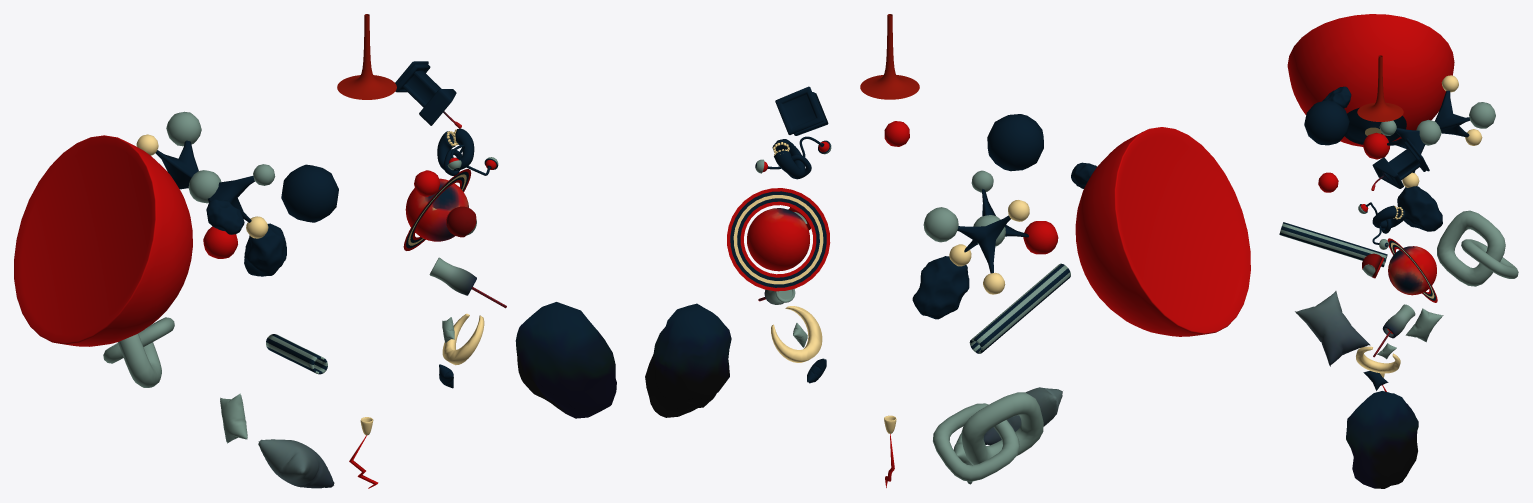
File: 03_Future.glb
The picture shows the model from 3 angles, left to right: view 1: azimuth 30°, elevation 25°; view 2: azimuth 150°, elevation 25°; view 3: azimuth 270°, elevation 25°; orthographic projection. The views are drawn at different scales.
Parts seen in each view (by area): view 1: 03_Big_eye, 03_Big_asteroid.001, 03_Big_formula, 03_Big_balls, 03_Big_pillows_001, 03_Big_ringschain, 03_Planet, 03_Tribune, 03_Big_asteroid, 03_Quill, 03_Alien, 03_Big_tube (+6 smaller); view 2: 03_Big_eye, 03_Big_asteroid.001, 03_Big_ringschain, 03_Big_formula, 03_Planet_Rings, 03_Planet, 03_Big_balls, 03_Big_asteroid, 03_Big_tube, 03_Tribune, 03_Quill, 03_Alien (+2 smaller); view 3: 03_Big_eye, 03_Big_asteroid.001, 03_Big_formula, 03_Big_ringschain, 03_Big_pillows_001, 03_Planet, 03_Big_balls, 03_Big_asteroid, 03_Big_tube, 03_Tribune, 03_Quill, 03_Alien (+7 smaller).
Part boxes in pixels (box(x1,y1,x2,y2)): 03_Big_eye: box(14, 135, 192, 346); 03_Big_asteroid.001: box(515, 302, 616, 418); 03_Big_formula: box(136, 111, 275, 258); 03_Big_balls: box(281, 164, 338, 222); 03_Big_pillows_001: box(258, 439, 334, 488); 03_Big_ringschain: box(103, 317, 174, 387); 03_Planet: box(405, 178, 468, 241); 03_Tribune: box(395, 61, 456, 125); 03_Big_asteroid: box(244, 223, 286, 276); 03_Quill: box(337, 14, 396, 99); 03_Alien: box(437, 128, 498, 175); 03_Big_tube: box(266, 334, 327, 374); 03_Big_eye: box(1075, 127, 1250, 336); 03_Big_asteroid.001: box(645, 303, 731, 417); 03_Big_ringschain: box(933, 392, 1043, 481); 03_Big_formula: box(923, 170, 1058, 294); 03_Planet_Rings: box(727, 188, 830, 291); 03_Planet: box(747, 208, 809, 271); 03_Big_balls: box(987, 114, 1043, 171); 03_Big_asteroid: box(912, 256, 969, 319); 03_Big_tube: box(969, 263, 1070, 353); 03_Tribune: box(775, 86, 828, 135); 03_Quill: box(860, 14, 919, 99); 03_Alien: box(755, 136, 831, 178); 03_Big_eye: box(1287, 14, 1454, 146); 03_Big_asteroid.001: box(1346, 391, 1418, 488); 03_Big_formula: box(1363, 75, 1495, 187); 03_Big_ringschain: box(1437, 210, 1518, 286); 03_Big_pillows_001: box(1295, 291, 1370, 366); 03_Planet: box(1388, 246, 1436, 295); 03_Big_balls: box(1304, 100, 1349, 145); 03_Big_asteroid: box(1397, 186, 1442, 231); 03_Big_tube: box(1279, 222, 1387, 267); 03_Tribune: box(1372, 138, 1429, 188); 03_Quill: box(1357, 55, 1403, 121); 03_Alien: box(1358, 202, 1405, 249).
Bounding box in the file's own units: 110 × 87.16 × 51.33.
